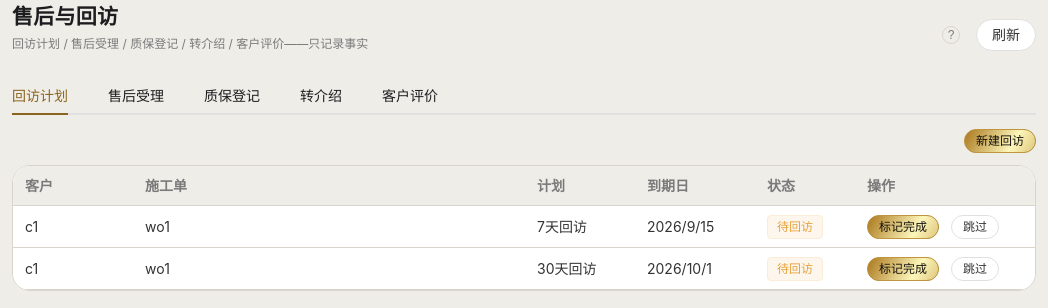
Test: AftercareView 售后与回访（M09 批次1） › 列表渲染：回访计划两条（7天/30天）+ 售后受理一条
切到售后受理页签：受理行可见（类型标签 + 内容摘要 + 状态）
What coordinates should you click on to do the following:
click the tab "售后受理"
I would click on:
 (136, 96)
Its box is [108,87,164,104].
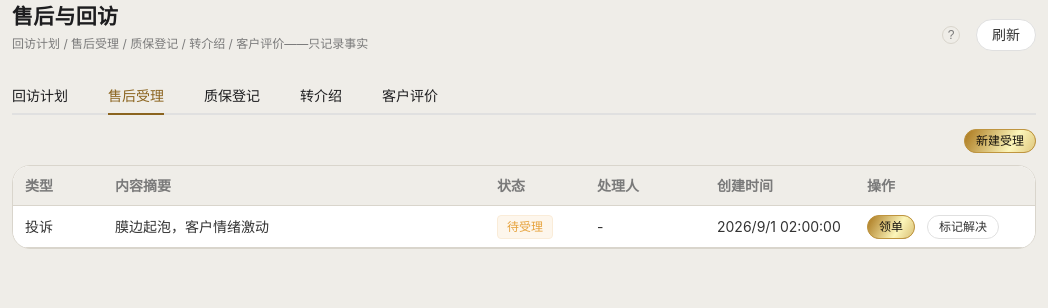
Expected: the text "投诉" is shown, [25,218,53,235]
Expected: the text "膜边起泡，客户情绪激动" is shown, [115,218,269,235]
Expected: the text "待受理" is shown, [507,221,543,233]
